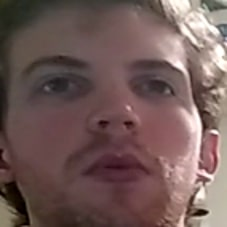awake: (15, 45, 193, 200)
